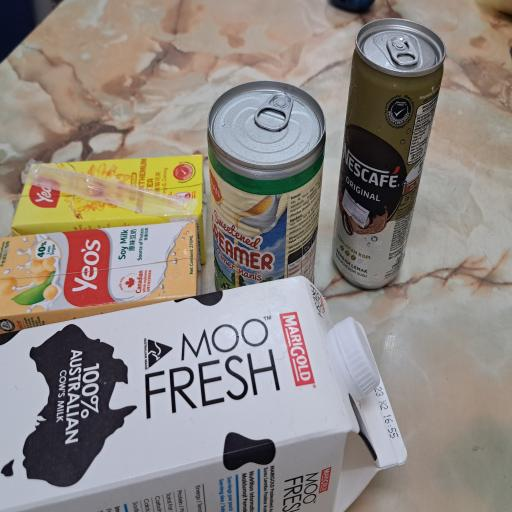can: (332, 19, 447, 291), (206, 80, 327, 294)
drink carton: (0, 276, 409, 512), (0, 220, 205, 336), (12, 152, 208, 235)
plastic bottle cap: (335, 315, 381, 399)
pop tab: (254, 92, 294, 133), (386, 35, 420, 67)
